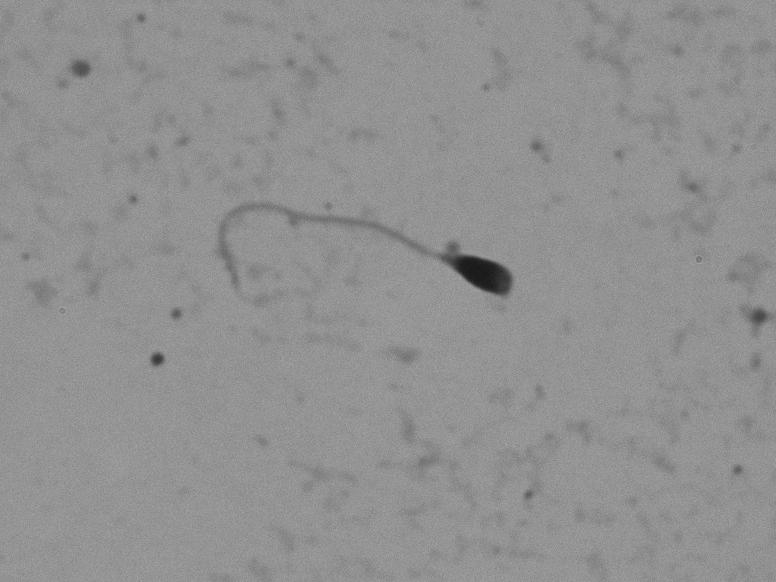Abnormal: (198, 177, 545, 346)
